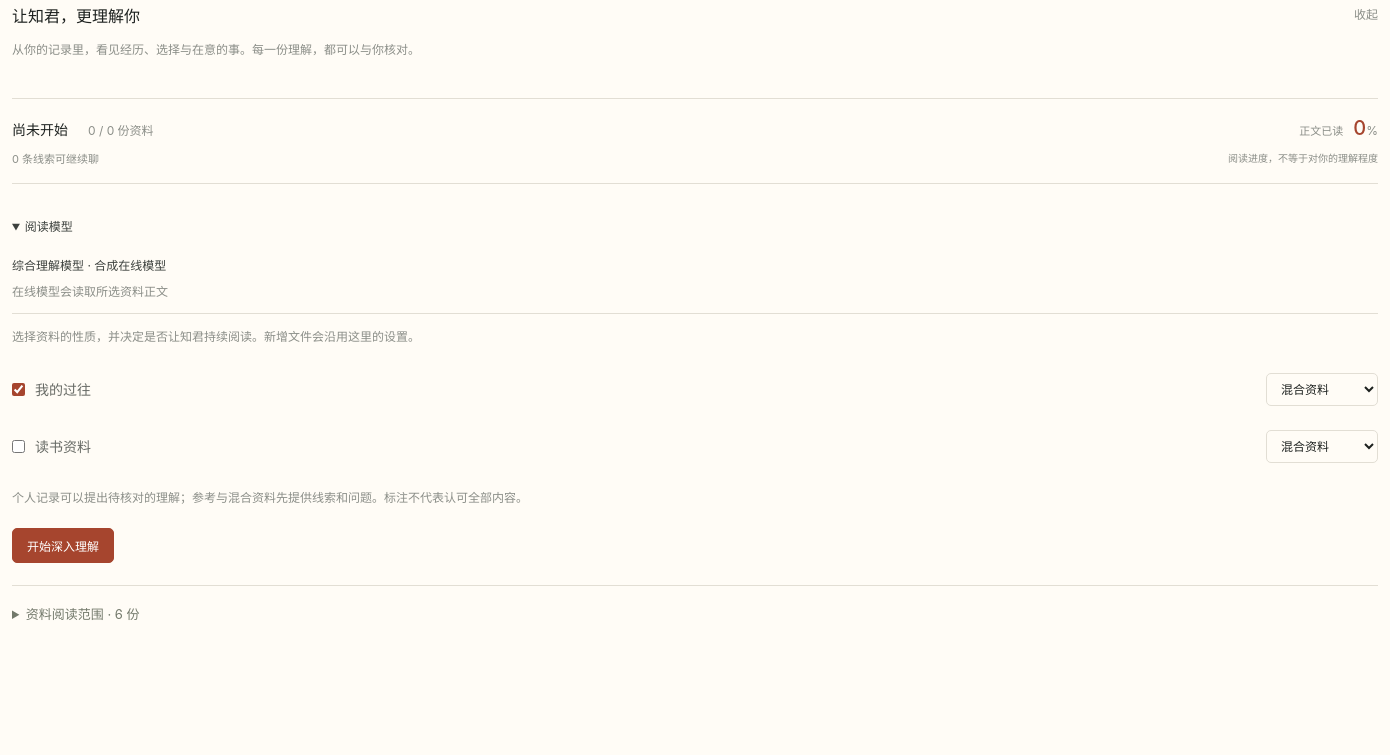
Test: discloses each current document's read range, pending state and actual failures in a collapsed section
Click the heading "资料阅读范围 · 6 份". click: (83, 614)
box: [26,606,140,622]
(page scrolled)
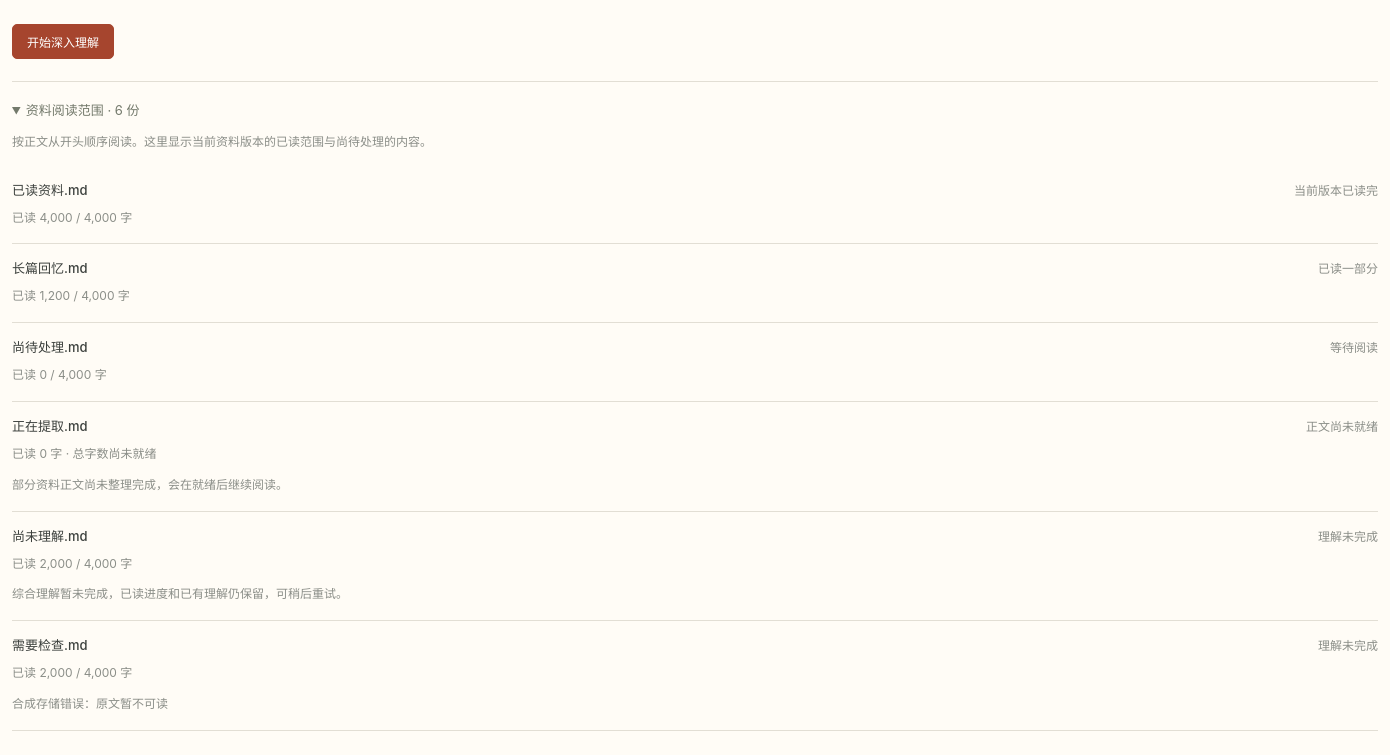
Result: the text "已读 1,200 / 4,000 字" is shown at [12,288,130,303]
Result: the text "已读一部分" is shown at [1318,259,1378,276]
Result: the text "当前版本已读完" is shown at [1294,181,1378,198]
